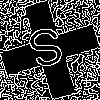S: (25, 25, 70, 79)
